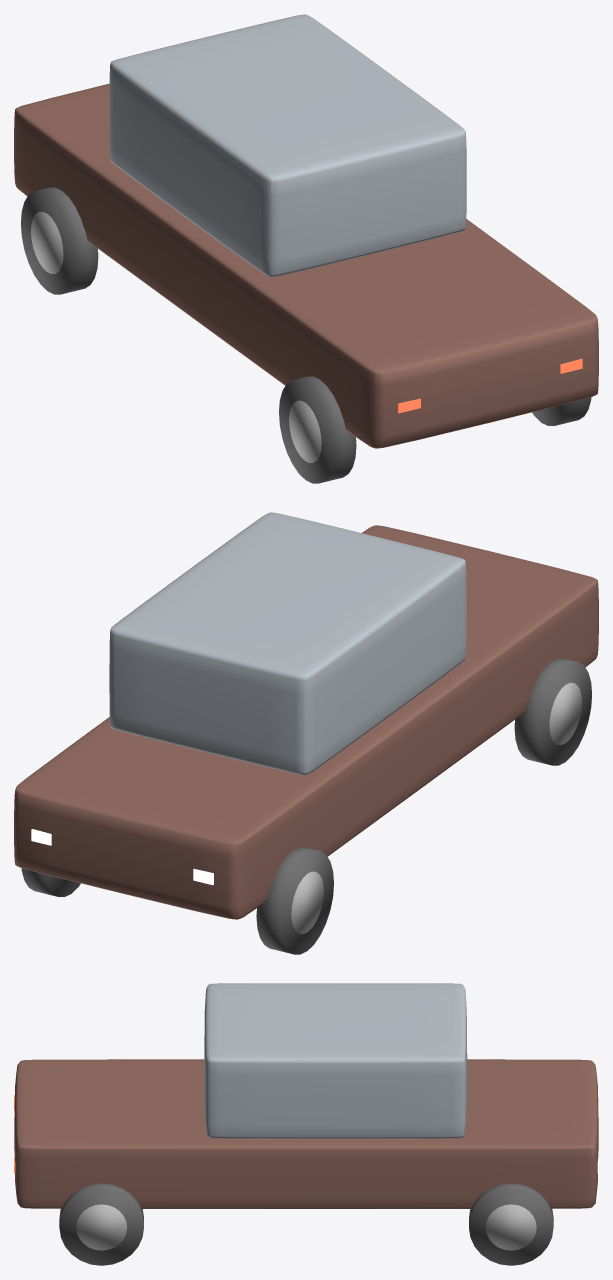
The model's file is truck.glb.
3 views of the same model, one above another, from view 1: azimuth 30°, elevation 25°; view 2: azimuth 150°, elevation 25°; view 3: azimuth 270°, elevation 25° (orthographic). The views are drawn at different scales.
Visible parts, largest first — view 1: Truck_Body, Truck_Cabin, Truck_Wheel_RL, Truck_Wheel_FL, Truck_Rim_RL, Truck_Rim_FL, Truck_Wheel_RR; view 2: Truck_Body, Truck_Cabin, Truck_Wheel_FL, Truck_Wheel_RL, Truck_Rim_FL, Truck_Rim_RL, Truck_Wheel_FR; view 3: Truck_Body, Truck_Cabin, Truck_Wheel_FR, Truck_Wheel_RR, Truck_Rim_FR, Truck_Rim_RR.
Part boxes in pixels (left/top/right/bottom): Truck_Body: left=14, top=83, right=598, bottom=448; Truck_Cabin: left=109, top=14, right=466, bottom=277; Truck_Wheel_RL: left=279, top=376, right=356, bottom=483; Truck_Wheel_FL: left=21, top=187, right=98, bottom=294; Truck_Rim_RL: left=289, top=400, right=321, bottom=462; Truck_Rim_FL: left=31, top=211, right=63, bottom=273; Truck_Wheel_RR: left=532, top=397, right=591, bottom=425; Truck_Body: left=14, top=525, right=598, bottom=919; Truck_Cabin: left=109, top=512, right=466, bottom=775; Truck_Wheel_FL: left=256, top=847, right=333, bottom=954; Truck_Wheel_RL: left=514, top=658, right=591, bottom=765; Truck_Rim_FL: left=291, top=871, right=323, bottom=933; Truck_Rim_RL: left=549, top=682, right=581, bottom=744; Truck_Wheel_FR: left=21, top=868, right=80, bottom=896; Truck_Body: left=14, top=1059, right=598, bottom=1208; Truck_Cabin: left=204, top=983, right=467, bottom=1138; Truck_Wheel_FR: left=469, top=1183, right=553, bottom=1265; Truck_Wheel_RR: left=59, top=1183, right=143, bottom=1265; Truck_Rim_FR: left=486, top=1204, right=536, bottom=1250; Truck_Rim_RR: left=76, top=1204, right=126, bottom=1250.
Size of the model in its own units: 2.37 by 2.14 by 5.8.
